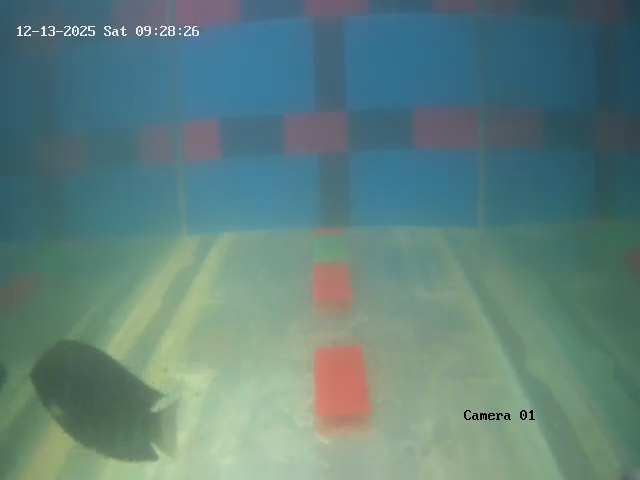fish: (23, 334, 170, 456)
